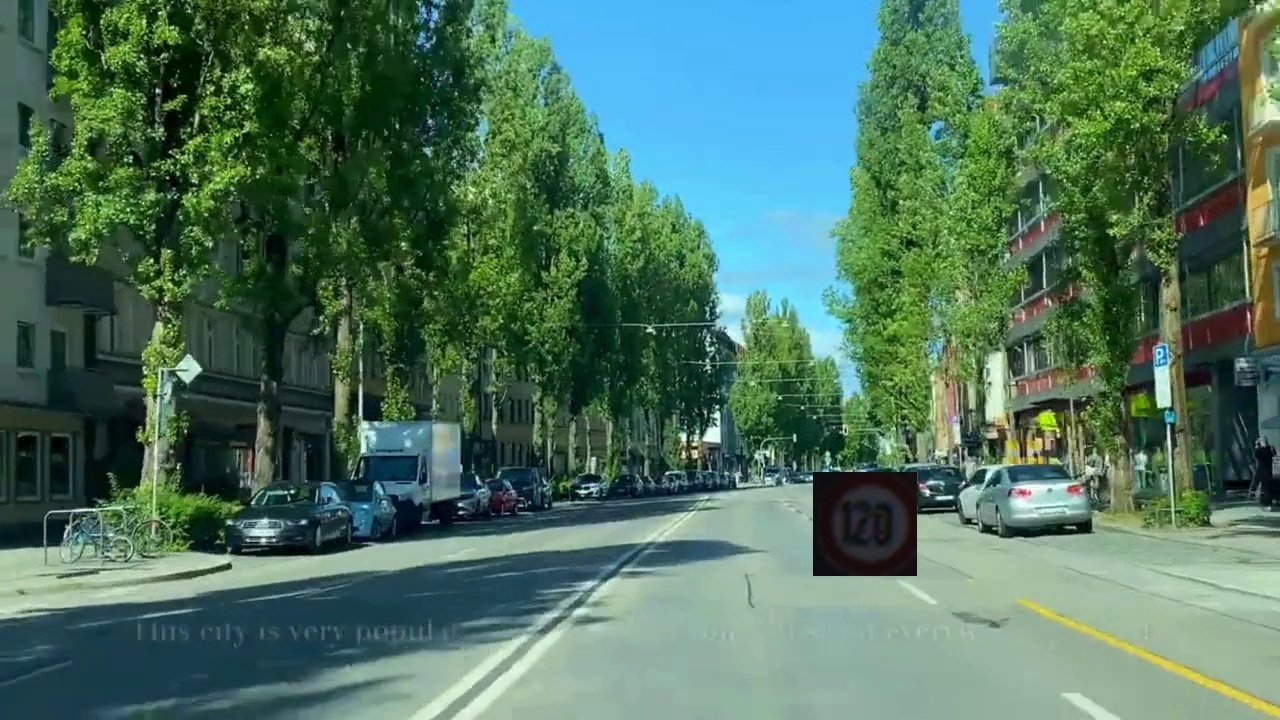Speed 120: (813, 472, 917, 576)
